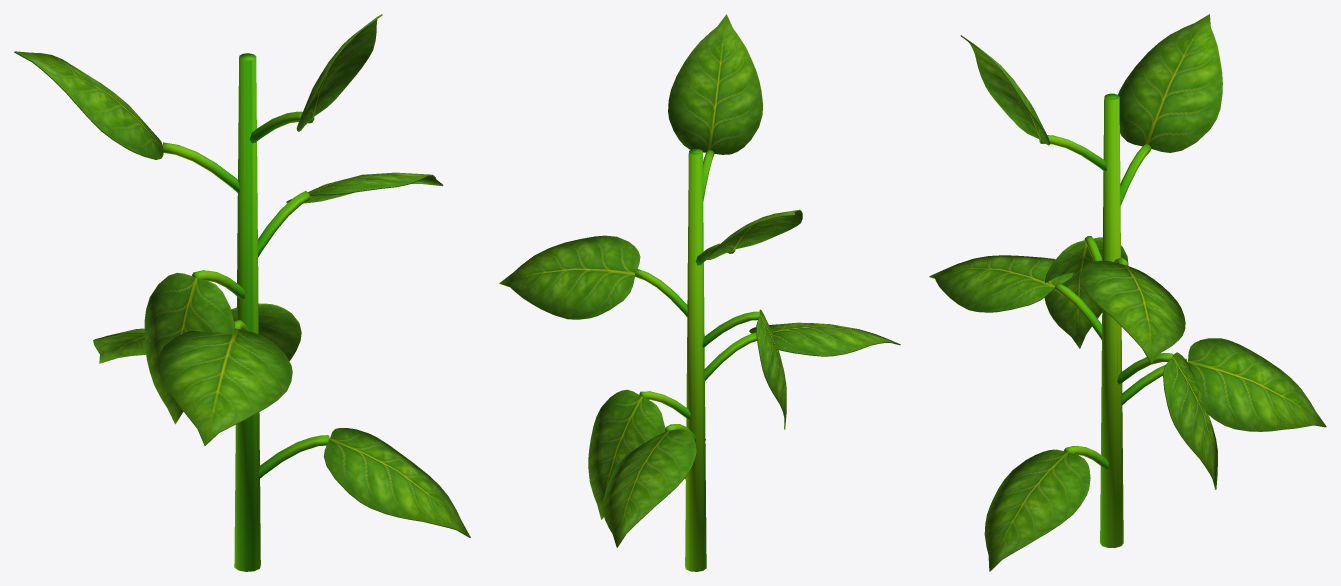
Rendered from NP_GreenBean_Young_LOD1.fbx.
The picture shows the model from 3 angles, left to right: view 1: azimuth 30°, elevation 25°; view 2: azimuth 150°, elevation 25°; view 3: azimuth 270°, elevation 25°; orthographic projection. The views are drawn at different scales.
Visible parts, largest first — view 1: NP_GreenBean_Young; view 2: NP_GreenBean_Young; view 3: NP_GreenBean_Young.
Boxes of the visible parts, left/top/right/bottom form: NP_GreenBean_Young: left=14, top=14, right=470, bottom=571; NP_GreenBean_Young: left=499, top=14, right=900, bottom=571; NP_GreenBean_Young: left=929, top=14, right=1326, bottom=571.
Size of the model in its own units: 47.41 by 69.05 by 47.06.
